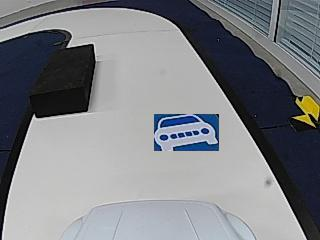block: (35, 44, 96, 118)
